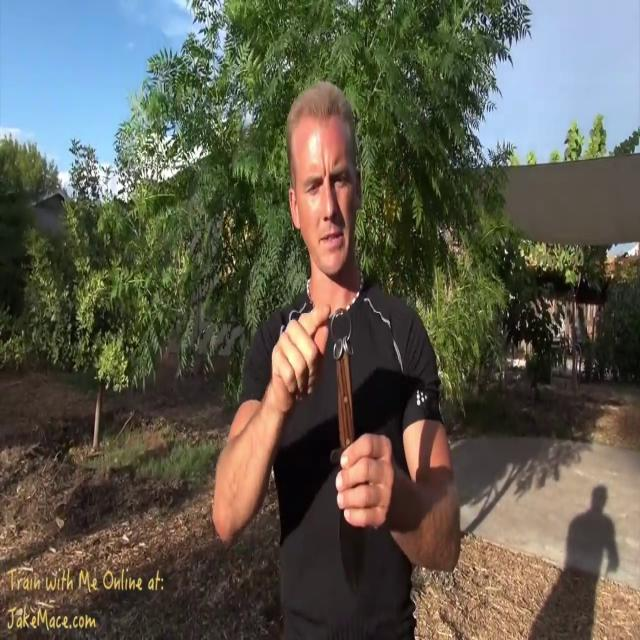knife: (328, 303, 378, 580)
